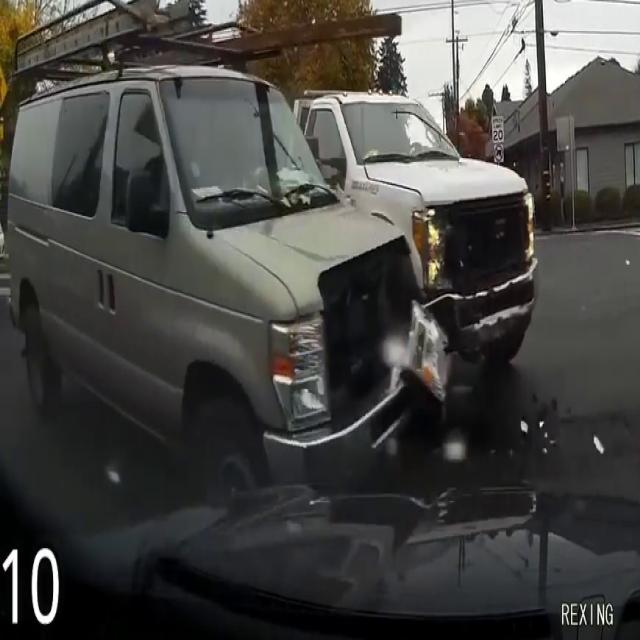accident: (172, 95, 557, 448)
